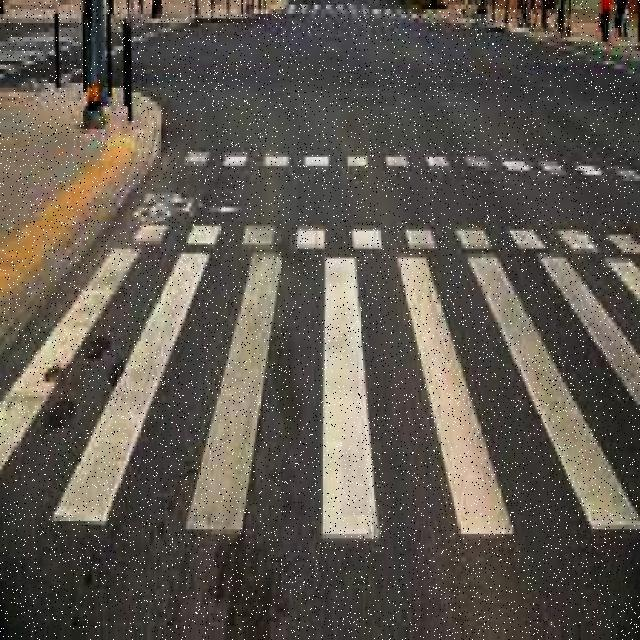crosswalk: (0, 249, 640, 533), (0, 22, 117, 77)
